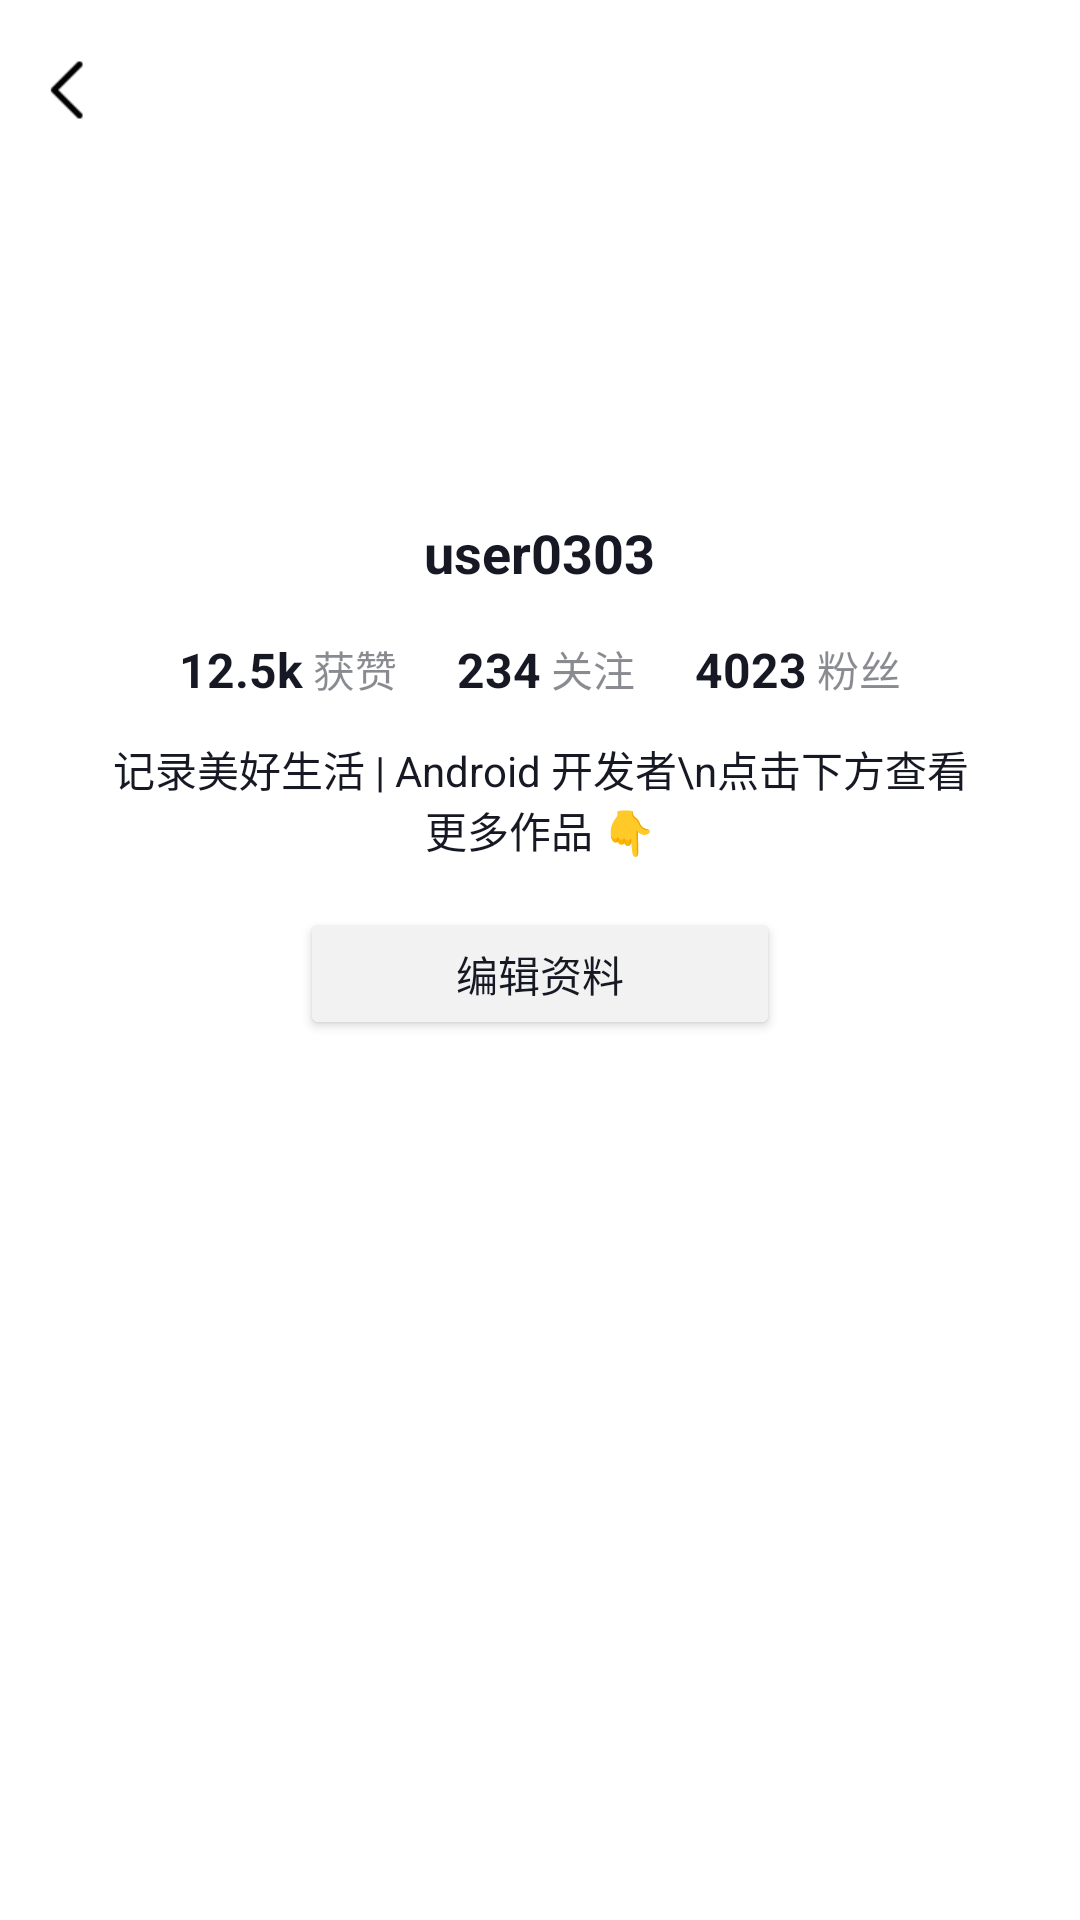

Named icons in this screenshot (1080*1920) and their centers, point (x, y):
back: point (66, 90)
